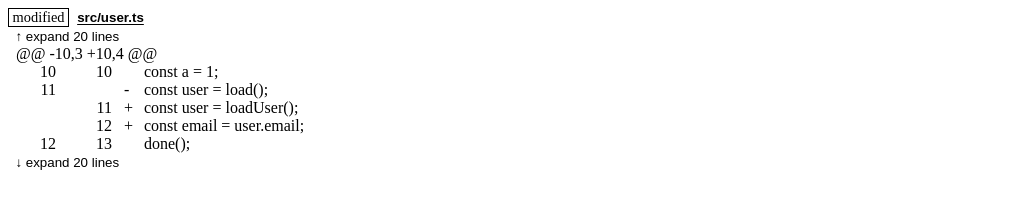
DiffView › shows a readable error when context fails to load
This screenshot has width=1024, height=205.
Click the button with aria-label "Show 20 more lines below in src/user.ts": [72, 162] box x1=8 y1=155 x2=1016 y2=170
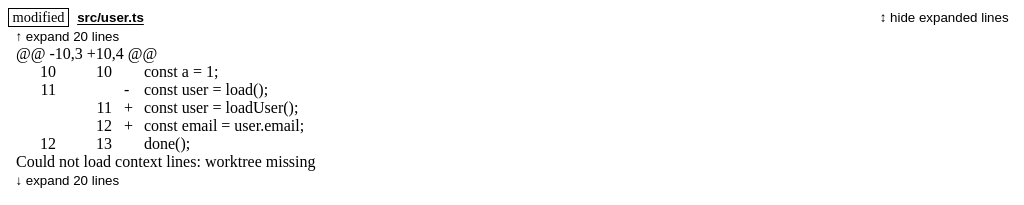
Check: the text "Could not load context lines: worktree missing" is shown, box x1=8 y1=153 x2=1016 y2=171
